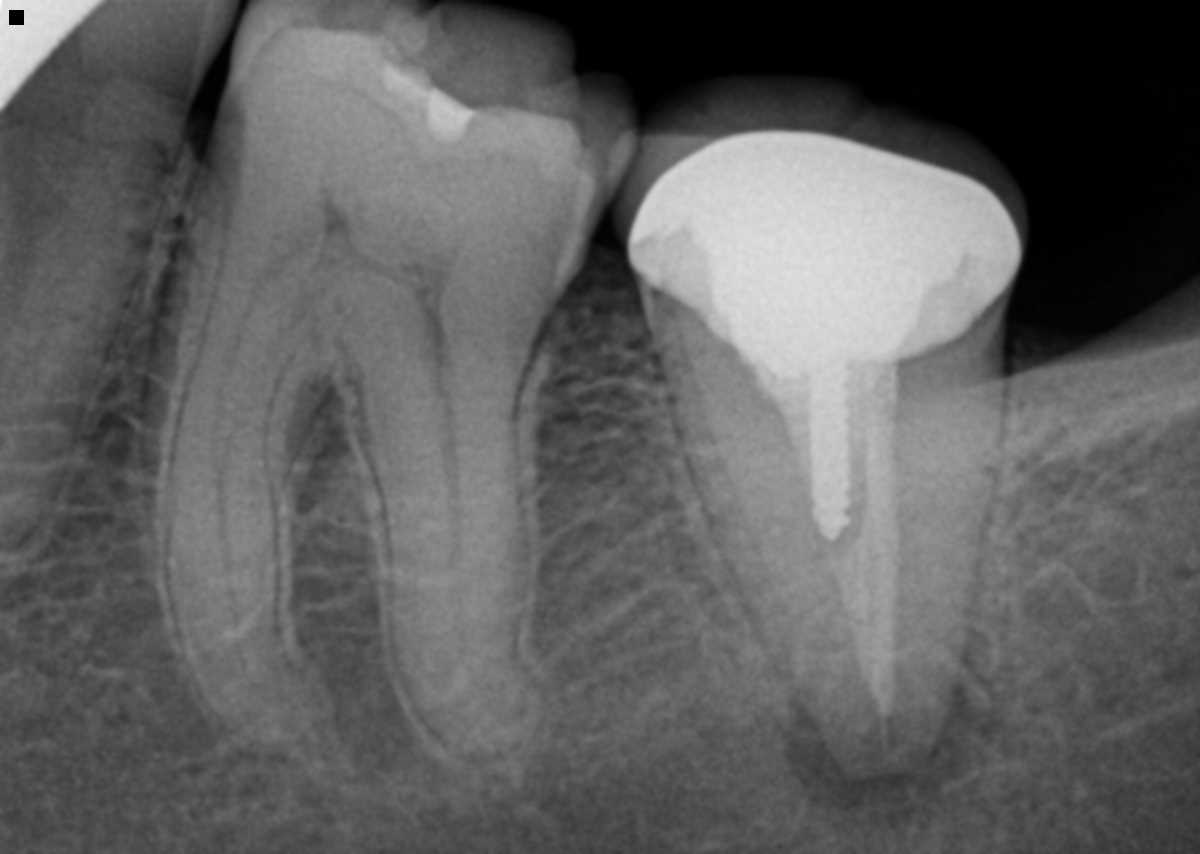Apical Lesion: (779, 663, 1003, 834)
Distal Canal: (426, 327, 491, 696)
Distal Root: (345, 317, 539, 760)
Main Canal: (0, 138, 84, 313)
Main Root: (641, 314, 1009, 775), (0, 132, 180, 554)
Mesial Canal: (209, 244, 315, 682)
Mesial Root: (148, 279, 338, 761)
Root Canal Filling: (829, 369, 903, 715)
